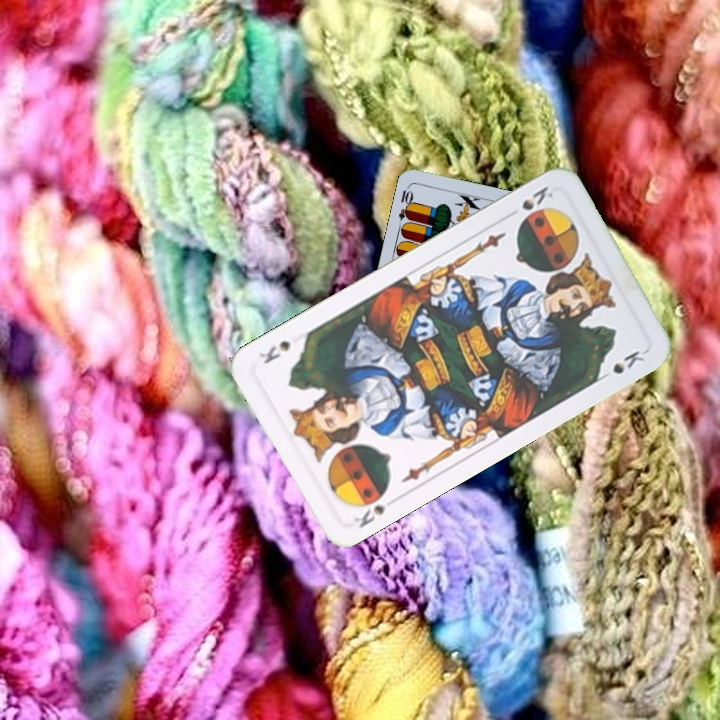E10: (394, 182, 416, 223)
SK: (516, 181, 556, 224), (350, 500, 389, 531)
